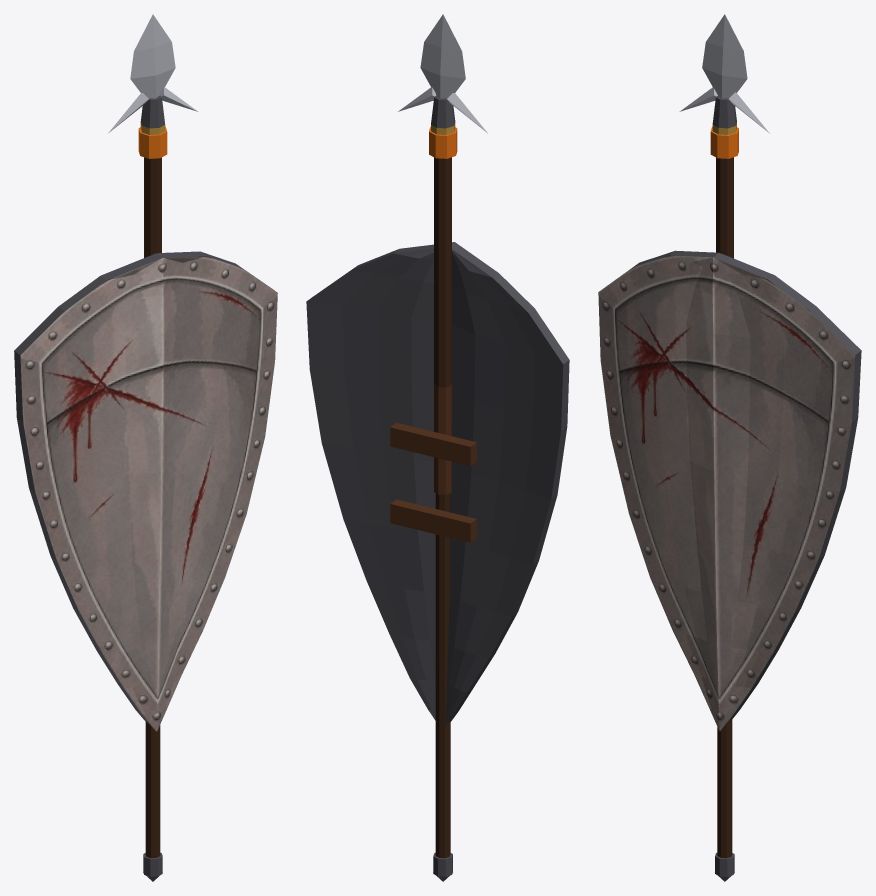
The model's file is gaoshun-props.glb.
3 renders of one model, left to right at view 1: azimuth 30°, elevation 25°; view 2: azimuth 150°, elevation 25°; view 3: azimuth 330°, elevation 25°, orthographic.
Parts seen in each view (by area): view 1: prop_shield, prop_spear, prop_banner; view 2: prop_shield, prop_spear, prop_banner; view 3: prop_shield, prop_spear, prop_banner.
Boxes of the visible parts, <box> form: prop_shield: <box>14,251,277,731</box>; prop_spear: <box>108,14,197,881</box>; prop_banner: <box>138,127,167,257</box>; prop_shield: <box>306,242,569,724</box>; prop_spear: <box>398,14,487,881</box>; prop_banner: <box>429,126,457,387</box>; prop_shield: <box>598,250,861,731</box>; prop_spear: <box>679,14,769,881</box>; prop_banner: <box>710,126,738,258</box>.
Size of the model in its own units: 0.7022 by 2.26 by 0.1111.
2 materials, 2 textured.
